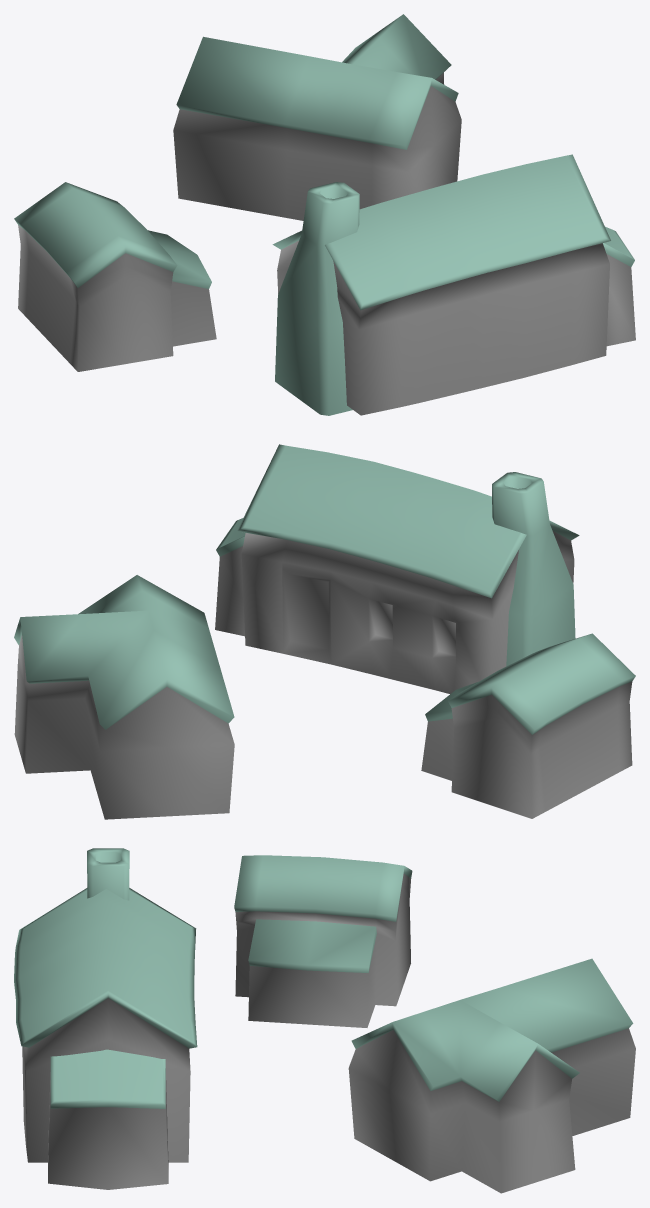
Rendered from 45_HouseGroup 1.fbx.
3 views of the same model, one above another, from view 1: azimuth 30°, elevation 25°; view 2: azimuth 150°, elevation 25°; view 3: azimuth 270°, elevation 25° (orthographic).
Parts seen in each view (by area): view 1: HouseGroup; view 2: HouseGroup; view 3: HouseGroup.
Part boxes in pixels (left/top/right/bottom): HouseGroup: left=14, top=14, right=635, bottom=415; HouseGroup: left=14, top=444, right=635, bottom=819; HouseGroup: left=14, top=848, right=635, bottom=1193.
Size of the model in its own units: 127 by 47.51 by 136.
